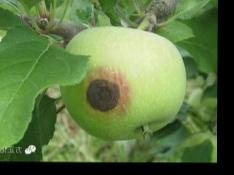rotten apple: (59, 24, 184, 140)
